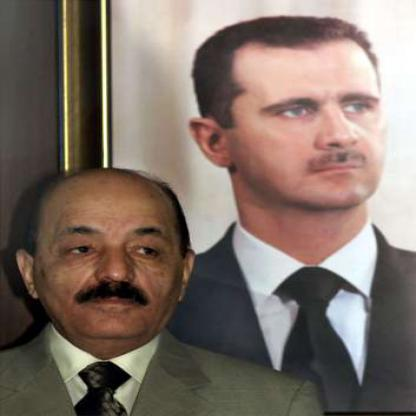face: (221, 22, 401, 218), (33, 171, 191, 343)
